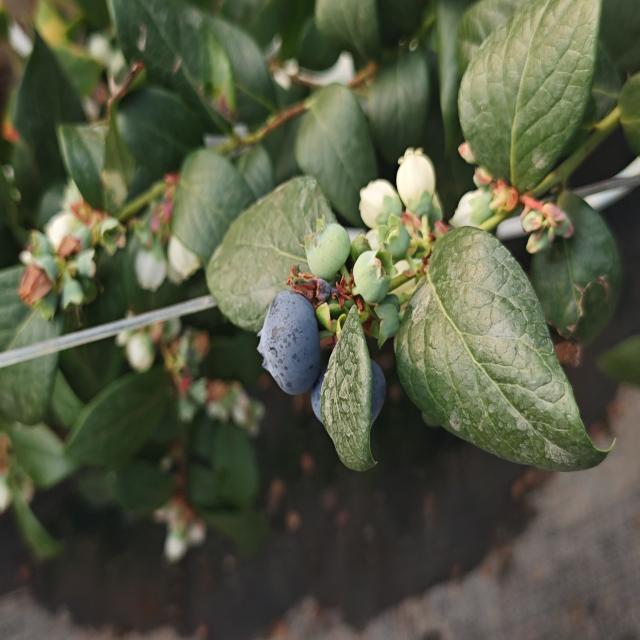ripe: (250, 293, 328, 407), (306, 354, 389, 441)
